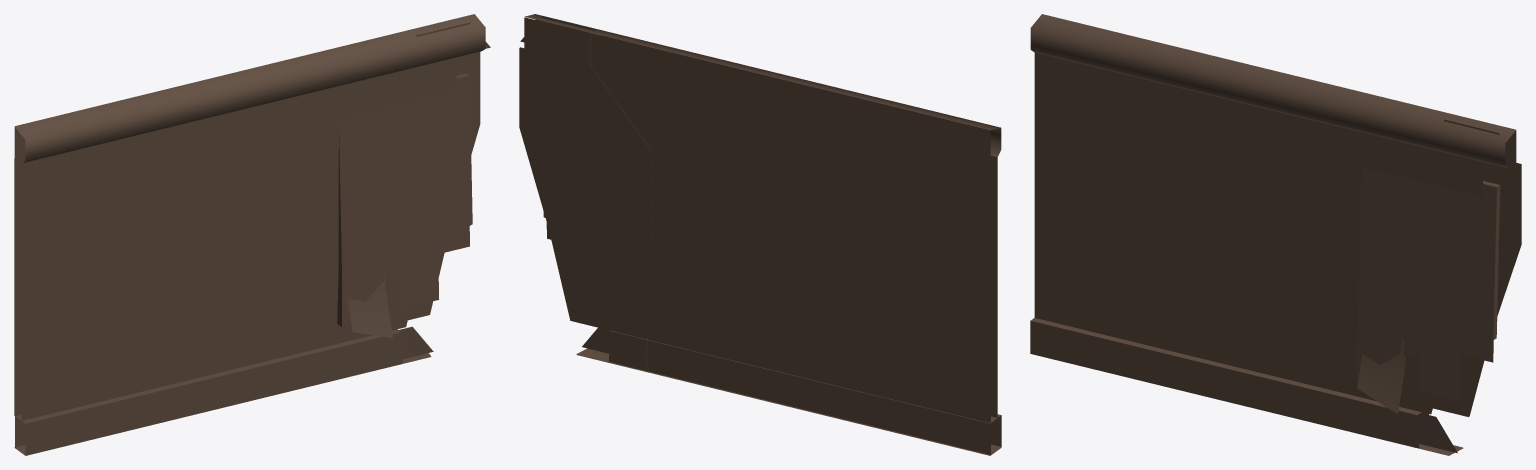
File: DBK_Bottom_Molding_Side_C.fbx
3 renders of one model, left to right at view 1: azimuth 30°, elevation 25°; view 2: azimuth 150°, elevation 25°; view 3: azimuth 330°, elevation 25°, orthographic. The views are drawn at different scales.
Parts seen in each view (by area): view 1: DBK_Bottom_Molding_Side_C; view 2: DBK_Bottom_Molding_Side_C; view 3: DBK_Bottom_Molding_Side_C.
Boxes of the visible parts, x1,y1,x2,y2 form: DBK_Bottom_Molding_Side_C: (14, 14, 490, 455); DBK_Bottom_Molding_Side_C: (519, 14, 1001, 455); DBK_Bottom_Molding_Side_C: (1030, 14, 1521, 455).
Size of the model in its own units: 153 by 100 by 9.62.
